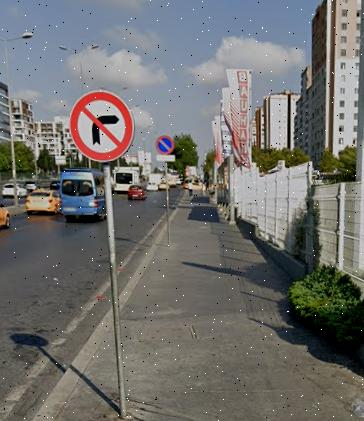nopark: (155, 134, 174, 153)
rightturnsareforbidden: (67, 91, 134, 159)
